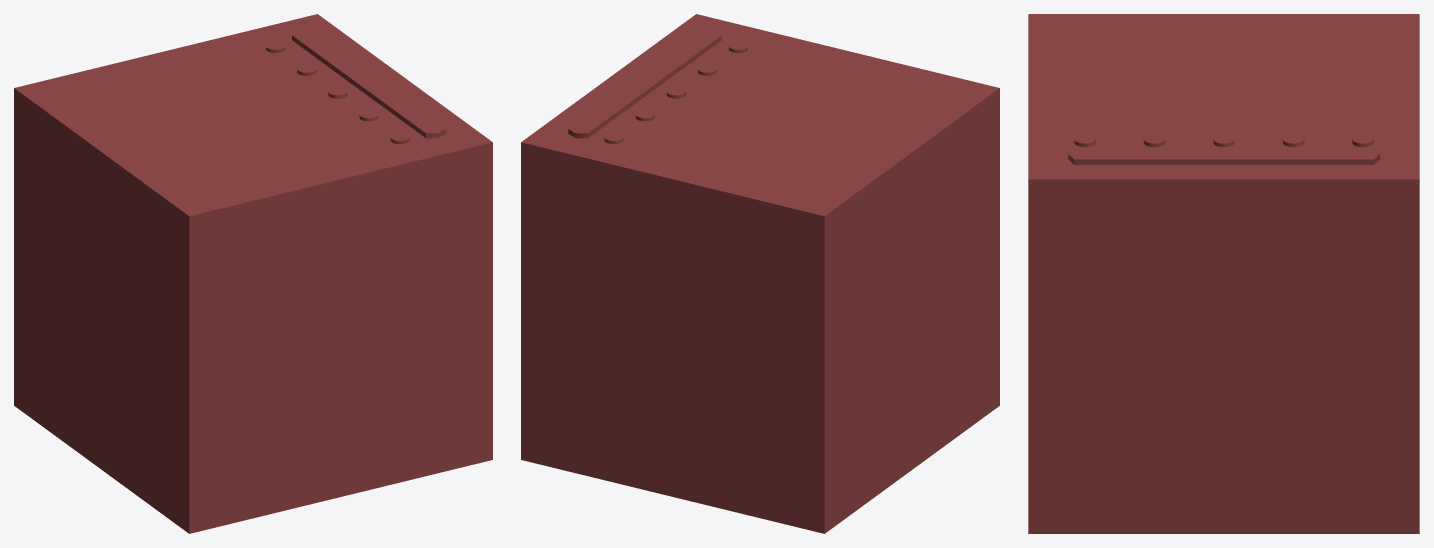
File: alarmclock_1.fbx
The picture shows the model from 3 angles, left to right: view 1: azimuth 30°, elevation 25°; view 2: azimuth 150°, elevation 25°; view 3: azimuth 270°, elevation 25°; orthographic projection. The views are drawn at different scales.
Visible parts, largest first — view 1: alarmclock_low1; view 2: alarmclock_low1; view 3: alarmclock_low1.
Part boxes in pixels (x1,y1,x2,y2): alarmclock_low1: (14, 14, 492, 533); alarmclock_low1: (521, 14, 999, 533); alarmclock_low1: (1028, 14, 1419, 533).
Bounding box in the file's own units: 8.12 × 8.25 × 8.12.
